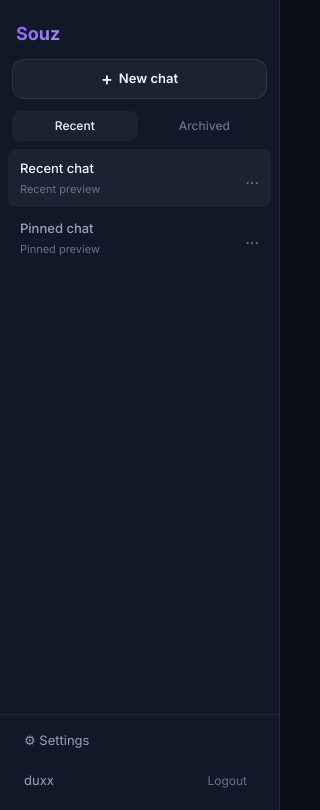
Test: Sidebar › shows rename, pin, and archive actions in the chat row menu
Click the button named "Chat actions for Recent chat" at (252, 178), box x1=233 y1=149 x2=271 y2=207
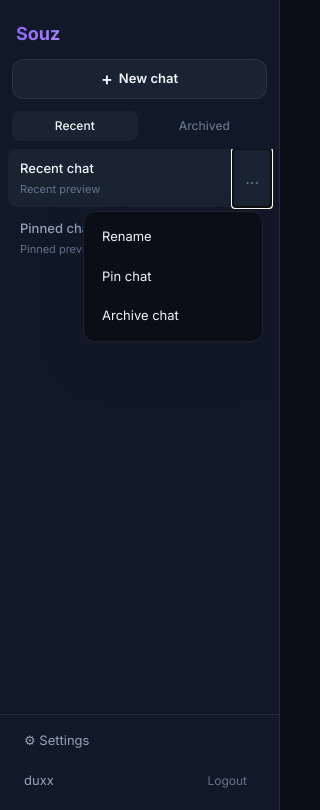
expect the button "Rename" is shown: met, box x1=90 y1=218 x2=256 y2=256
expect the button "Pin chat" is shown: met, box x1=90 y1=258 x2=256 y2=295
expect the button "Archive chat" is shown: met, box x1=90 y1=297 x2=256 y2=335
